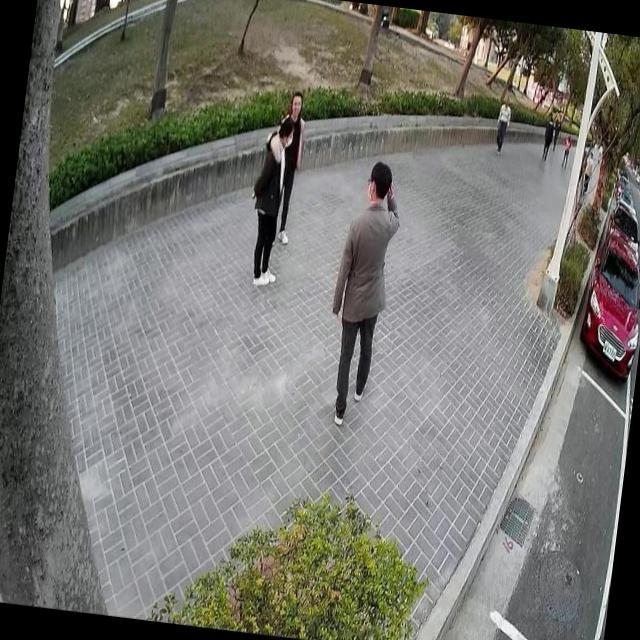person: (313, 154, 408, 432), (238, 107, 299, 291), (260, 83, 312, 250), (491, 90, 514, 154), (536, 109, 558, 164), (576, 146, 596, 199)
